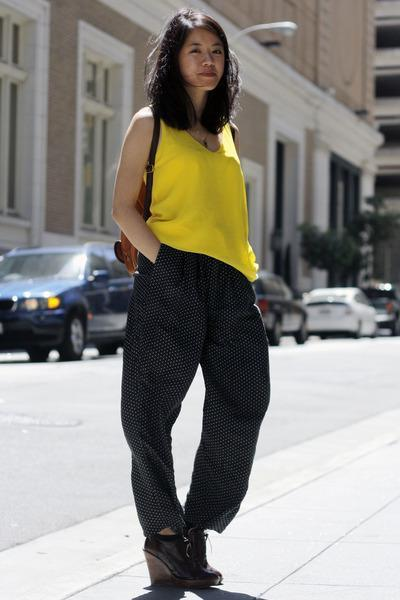short sleeve shirt: (127, 113, 256, 278)
trousers: (118, 246, 276, 538)
